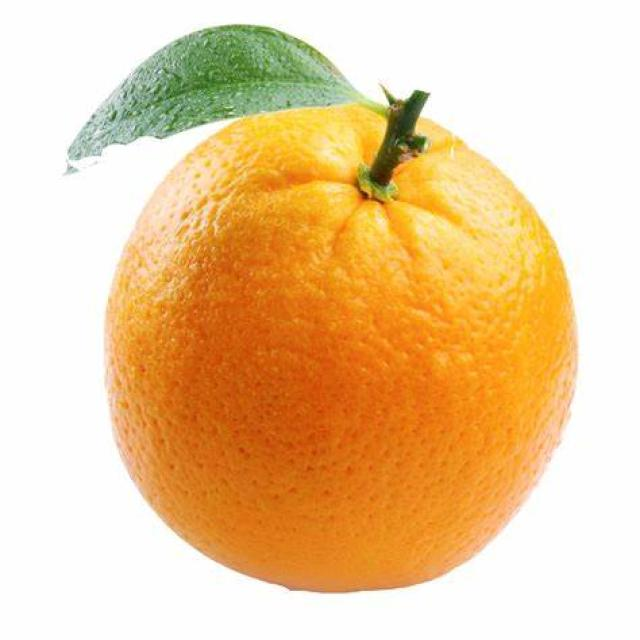Orange: (102, 29, 572, 591)
